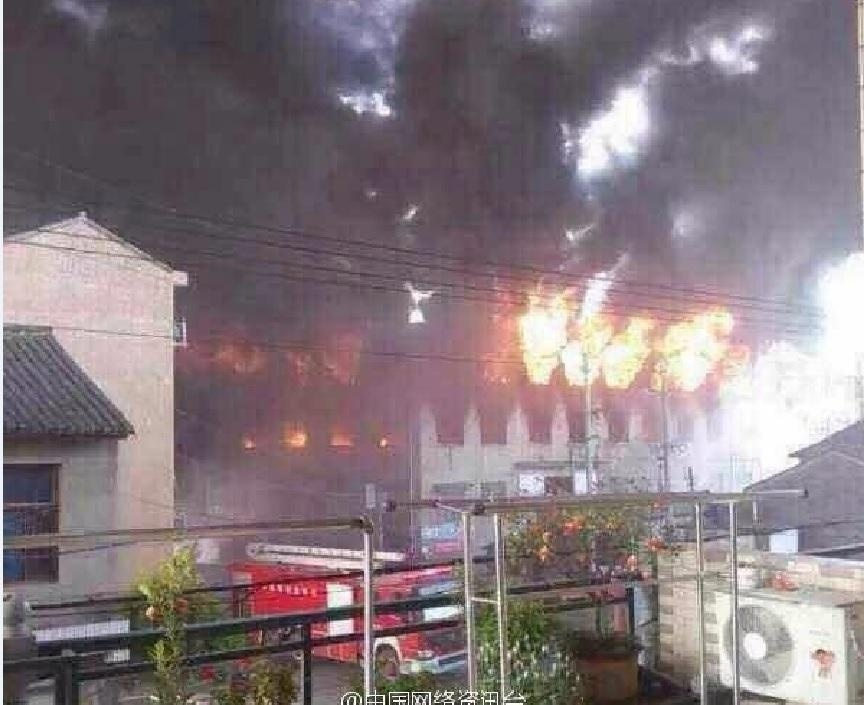fire: (514, 280, 737, 392)
